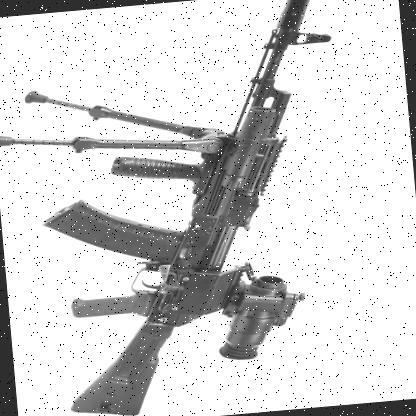rifle: (26, 0, 382, 415)
